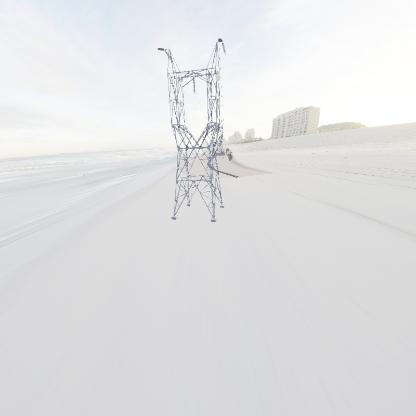tower: (154, 37, 231, 226)
